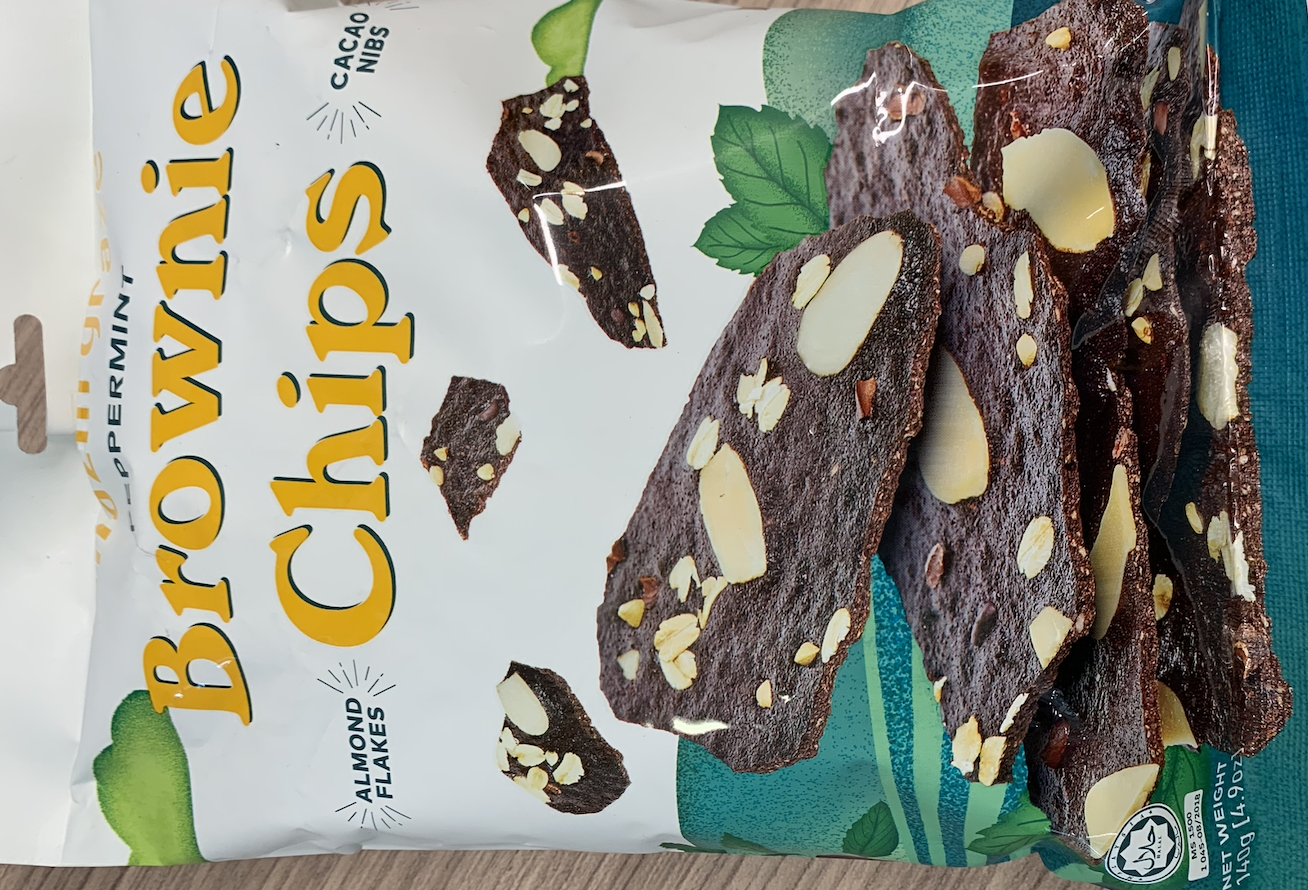cookies_100g-199g: (67, 41, 1264, 859)
